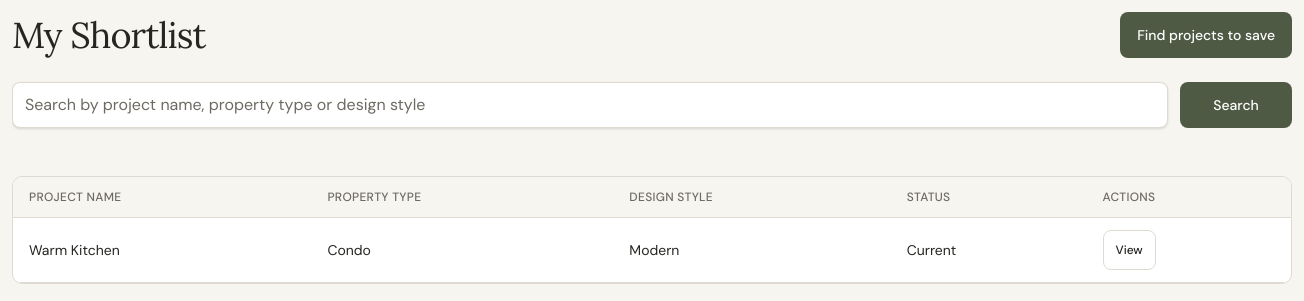
Search: Clear search empties the box and shows everything again
Expected: the cell "Warm Kitchen" is shown, top-left (13, 218), bottom-right (312, 282)
Expected: the button "Clear search" is not shown
Type "kitchen" into the field labelled "Search" at (590, 105), box top-left (12, 82), bottom-right (1168, 128)
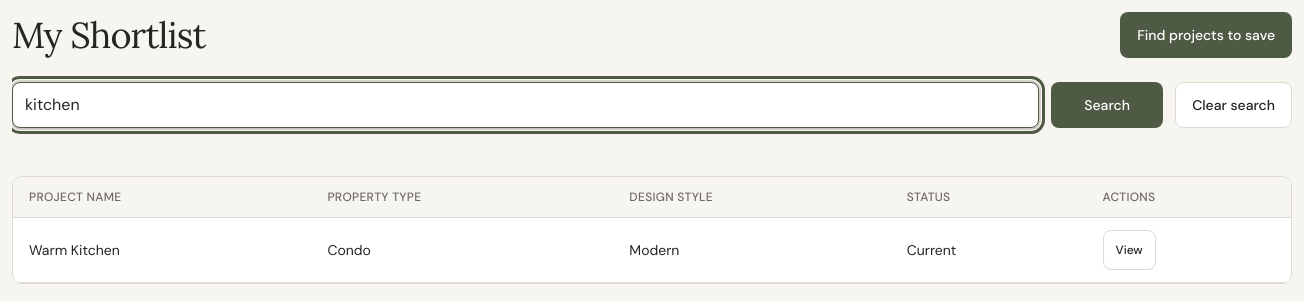
Click the button "Search" at (1107, 105), box top-left (1051, 82), bottom-right (1163, 128)
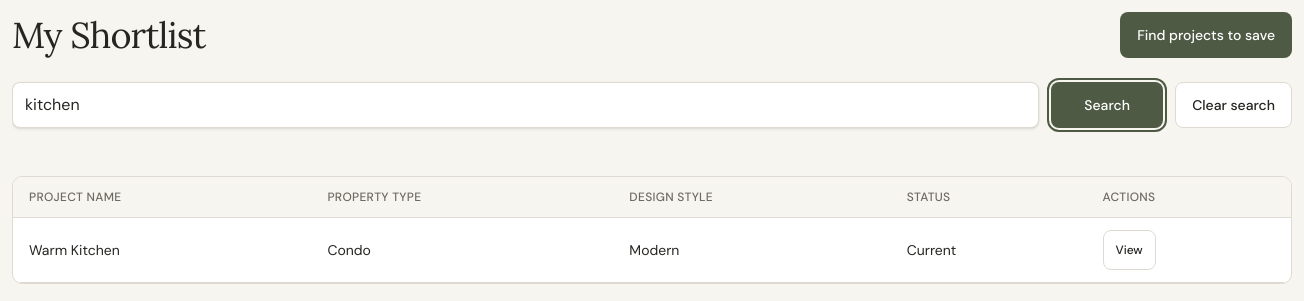
Click the button "Clear search" at (1234, 105), box top-left (1175, 82), bottom-right (1292, 128)
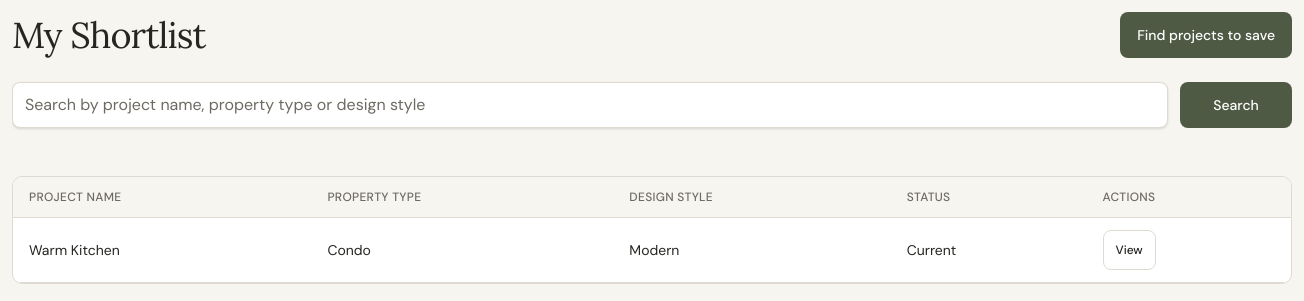
Result: the field labelled "Search" is empty at top-left (12, 82), bottom-right (1168, 128)
